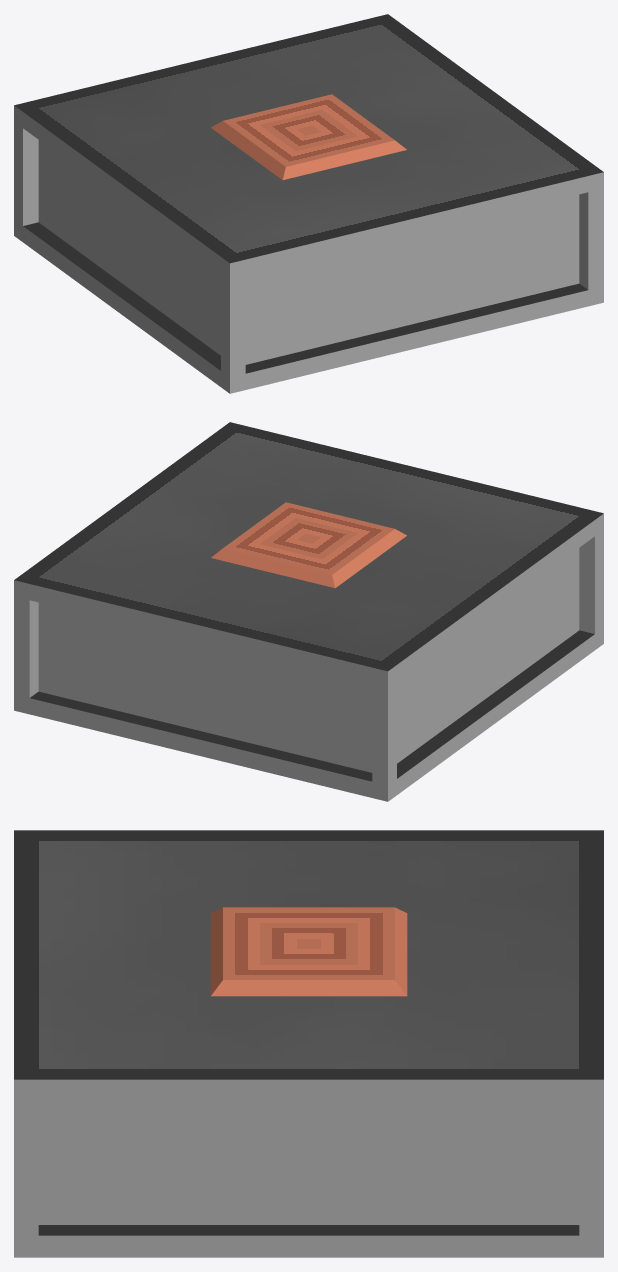
The model's file is industrial_heater.obj.
The picture shows the model from 3 angles, top to bottom: view 1: azimuth 30°, elevation 25°; view 2: azimuth 150°, elevation 25°; view 3: azimuth 270°, elevation 25°; orthographic projection. The views are drawn at different scales.
Parts seen in each view (by area): view 1: top, middle, bottom, cube, pole3, pole2, pole1; view 2: top, middle, bottom, cube, pole1, pole4, pole3; view 3: top, middle, bottom, cube, pole2, pole4.
Part boxes in pixels (x1=…): top: x1=14, y1=14, x2=603, y2=279; middle: x1=38, y1=140, x2=579, y2=364; bottom: x1=14, y1=220, x2=603, y2=393; cube: x1=211, y1=94, x2=406, y2=180; pole3: x1=221, y1=273, x2=245, y2=377; pole2: x1=579, y1=188, x2=603, y2=289; pole1: x1=14, y1=122, x2=38, y2=225; top: x1=14, y1=422, x2=603, y2=687; middle: x1=38, y1=548, x2=579, y2=772; bottom: x1=14, y1=628, x2=603, y2=801; cube: x1=211, y1=502, x2=406, y2=588; pole1: x1=372, y1=681, x2=396, y2=785; pole4: x1=14, y1=596, x2=38, y2=697; pole3: x1=579, y1=530, x2=603, y2=633; top: x1=14, y1=830, x2=603, y2=1101; middle: x1=38, y1=1101, x2=579, y2=1224; bottom: x1=14, y1=1225, x2=603, y2=1257; cube: x1=210, y1=907, x2=407, y2=996; pole2: x1=14, y1=1101, x2=38, y2=1235; pole4: x1=579, y1=1101, x2=603, y2=1235.
Bounding box in the file's own units: 3 × 1.06 × 3.
